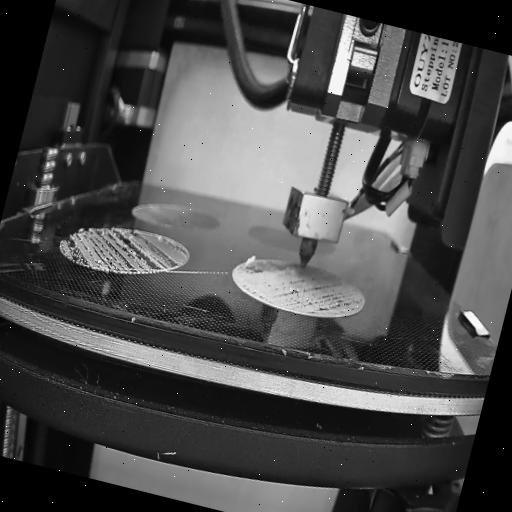under_extrusion: (59, 215, 184, 289), (264, 271, 366, 327), (227, 250, 272, 302)
